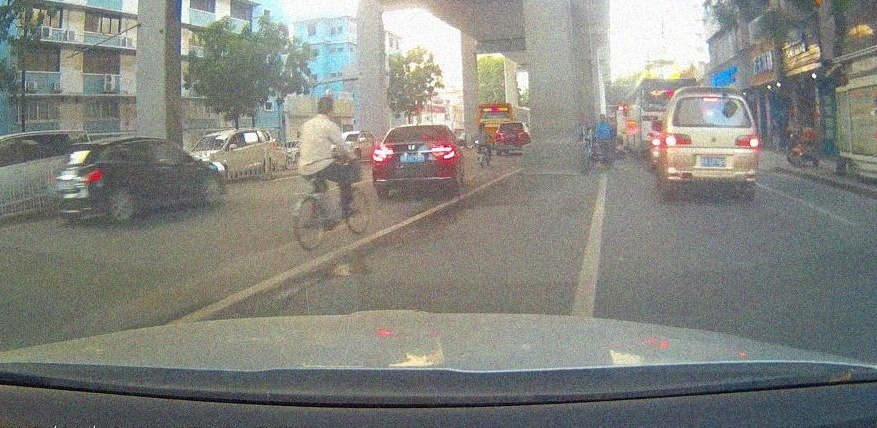L_light: (662, 133, 691, 145), (373, 149, 394, 161)
R_light: (431, 147, 455, 159), (736, 135, 759, 147)
T_light: (704, 97, 718, 101), (411, 138, 423, 140)
day-brake: (662, 86, 759, 199)
day-left: (372, 124, 456, 198)
